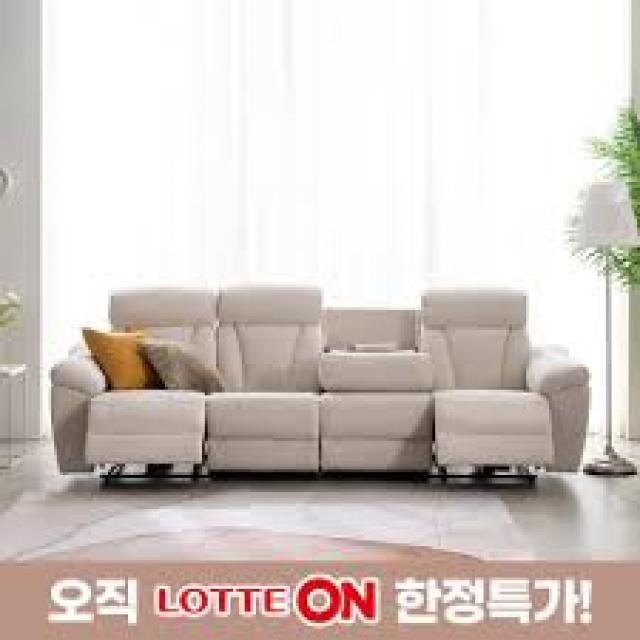Sofa: (44, 271, 598, 498)
